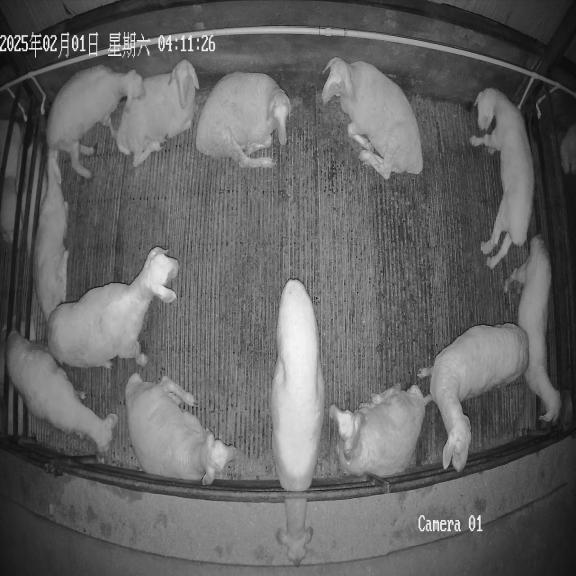eating: (271, 279, 324, 565)
lying: (322, 57, 423, 180), (125, 373, 236, 484), (329, 385, 431, 477), (196, 72, 291, 168), (114, 60, 198, 167), (34, 150, 68, 322)
stand: (418, 323, 529, 471), (47, 247, 179, 368), (5, 332, 117, 451), (470, 88, 534, 268), (46, 65, 143, 178), (505, 235, 560, 422)
